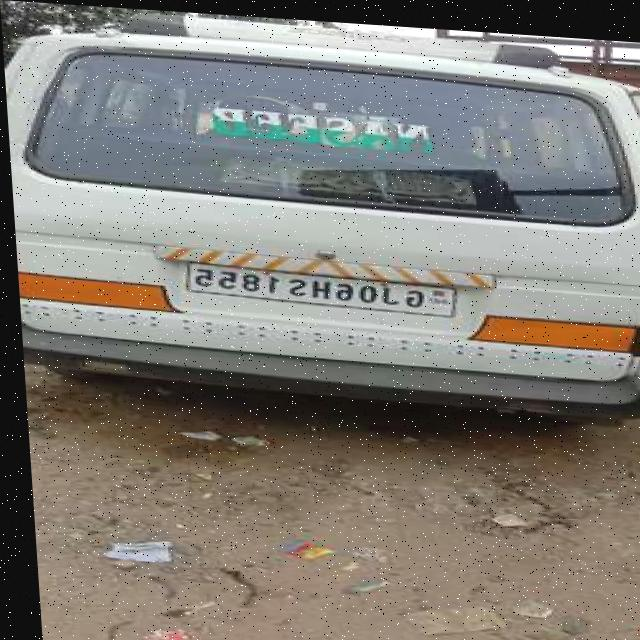plate: (181, 259, 447, 310)
